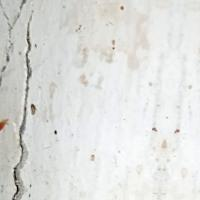crack: (1, 1, 45, 199)
